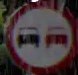No overtake: (2, 0, 77, 73)
